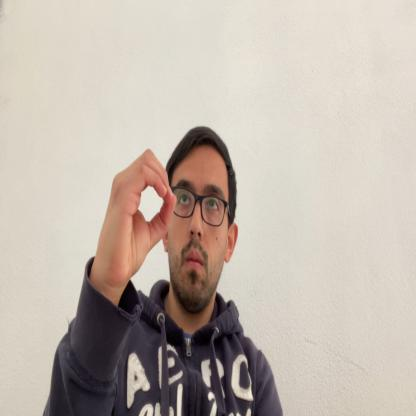O: (101, 147, 178, 283)
